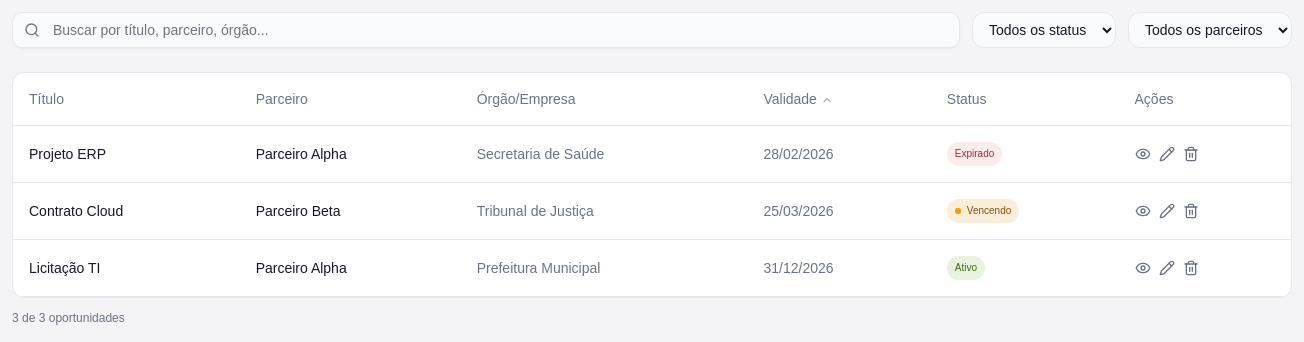
Test: OportunidadesListClient › filtra por status
The width and height of the screenshot is (1304, 342).
Select "Ativo" in the 1st dropdown: (1044, 30) [972,12,1116,48]
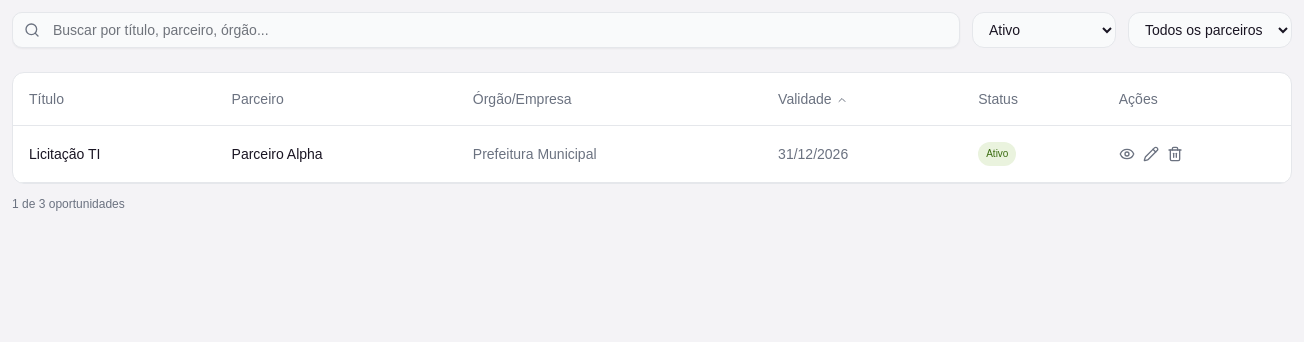
Expected: the text "Licitação TI" is shown, [13,126,216,182]
Expected: the text "Projeto ERP" is gone
